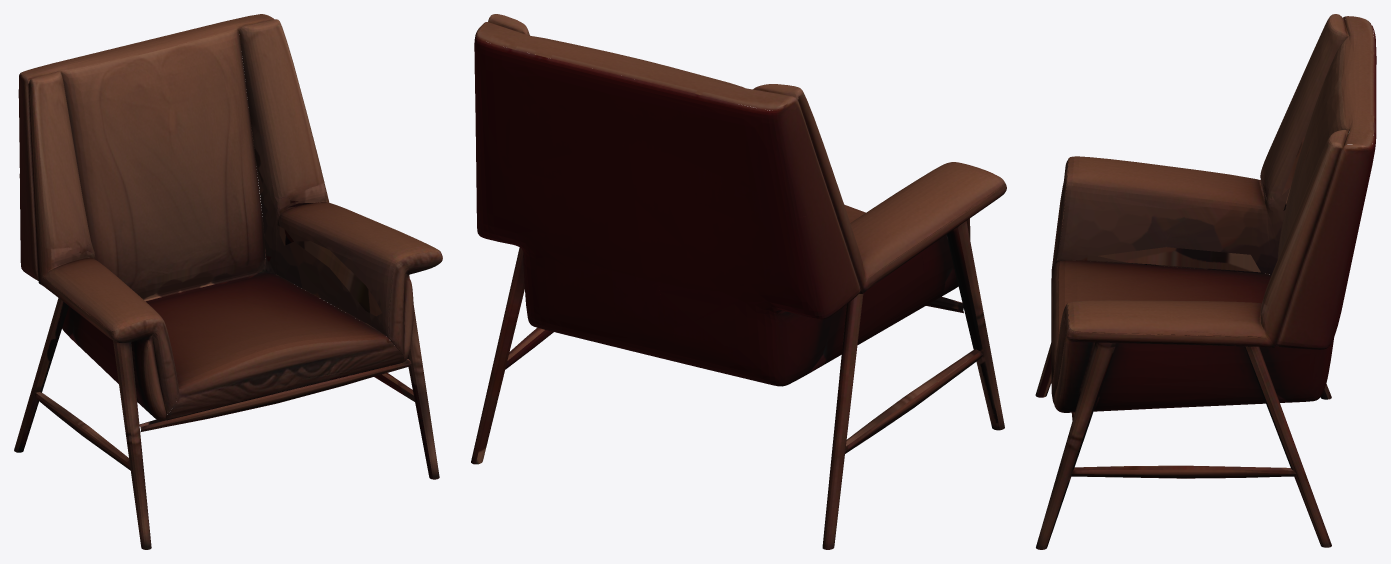
Rendered from edited_mesh.glb.
The picture shows the model from 3 angles, left to right: view 1: azimuth 30°, elevation 25°; view 2: azimuth 150°, elevation 25°; view 3: azimuth 270°, elevation 25°; orthographic projection. The views are drawn at different scales.
Visible parts, largest first — view 1: solid_001_wire; view 2: solid_001_wire; view 3: solid_001_wire.
Boxes of the visible parts, box(x1,y1,x2,y2) form: solid_001_wire: box(14, 14, 442, 549); solid_001_wire: box(471, 14, 1006, 549); solid_001_wire: box(1035, 14, 1376, 549).
Size of the model in its own units: 1.29 by 1.36 by 1.06.
Materials: 1 (1 with a texture image).
